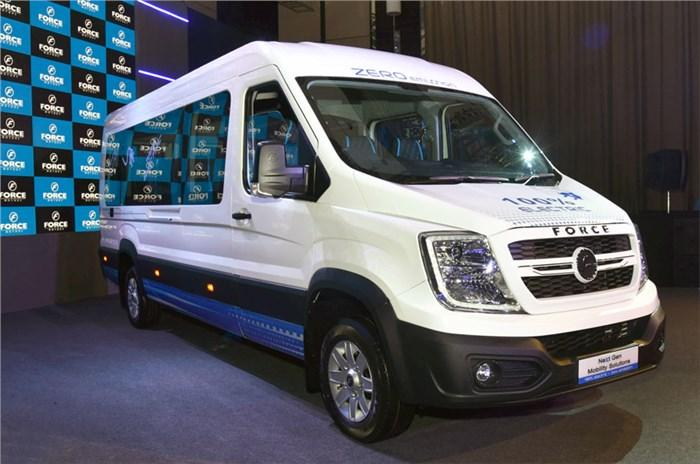van: (99, 39, 667, 444)
